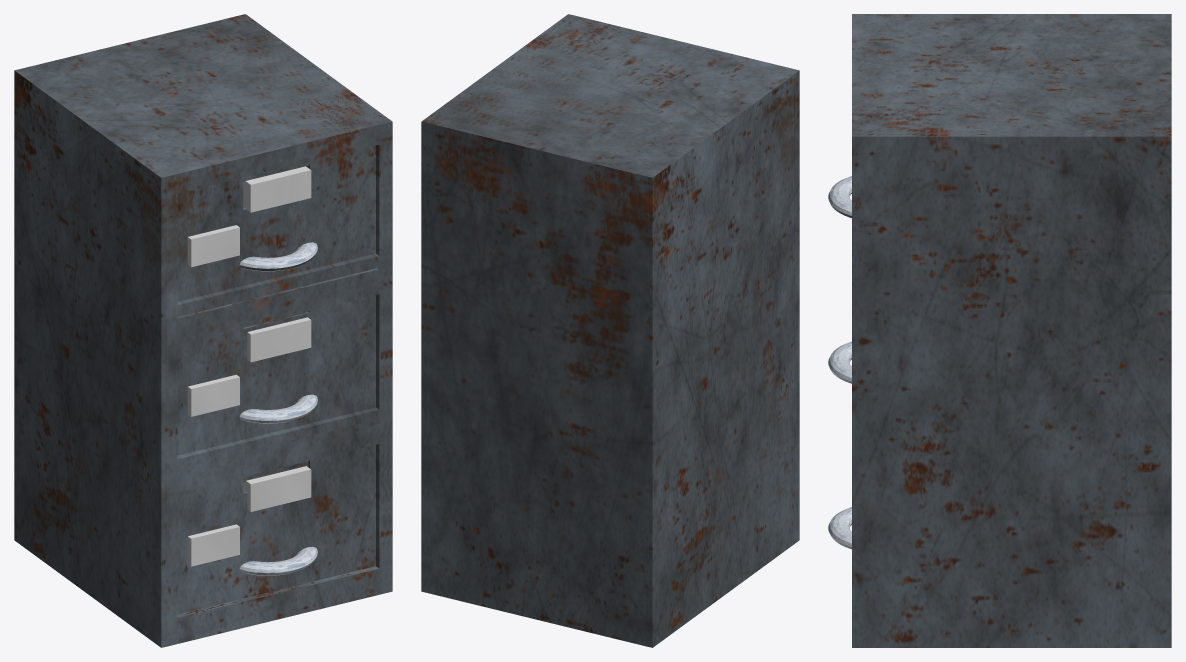
Rendered from FilingCabinets.fbx.
3 views of the same model, side by side, from view 1: azimuth 30°, elevation 25°; view 2: azimuth 150°, elevation 25°; view 3: azimuth 270°, elevation 25° (orthographic). The views are drawn at different scales.
Visible parts, largest first — view 1: FilingCabinetWHandles, FilingCabinets, FilingCabinetWPullOut; view 2: FilingCabinetWHandles, FilingCabinetWPullOut, FilingCabinets; view 3: FilingCabinets, FilingCabinetWHandles, FilingCabinetWPullOut.
Boxes of the visible parts, x1=… form: FilingCabinetWHandles: x1=14, y1=15, x2=385, y2=647; FilingCabinets: x1=130, y1=14, x2=392, y2=618; FilingCabinetWPullOut: x1=17, y1=15, x2=387, y2=647; FilingCabinetWHandles: x1=428, y1=15, x2=799, y2=647; FilingCabinetWPullOut: x1=426, y1=15, x2=797, y2=647; FilingCabinets: x1=421, y1=14, x2=713, y2=592; FilingCabinets: x1=852, y1=17, x2=1171, y2=647; FilingCabinetWHandles: x1=828, y1=14, x2=1171, y2=549; FilingCabinetWPullOut: x1=852, y1=14, x2=1171, y2=133.
Size of the model in its own units: 61.75 by 120 by 73.09.
Materials: 3 (3 with a texture image).
